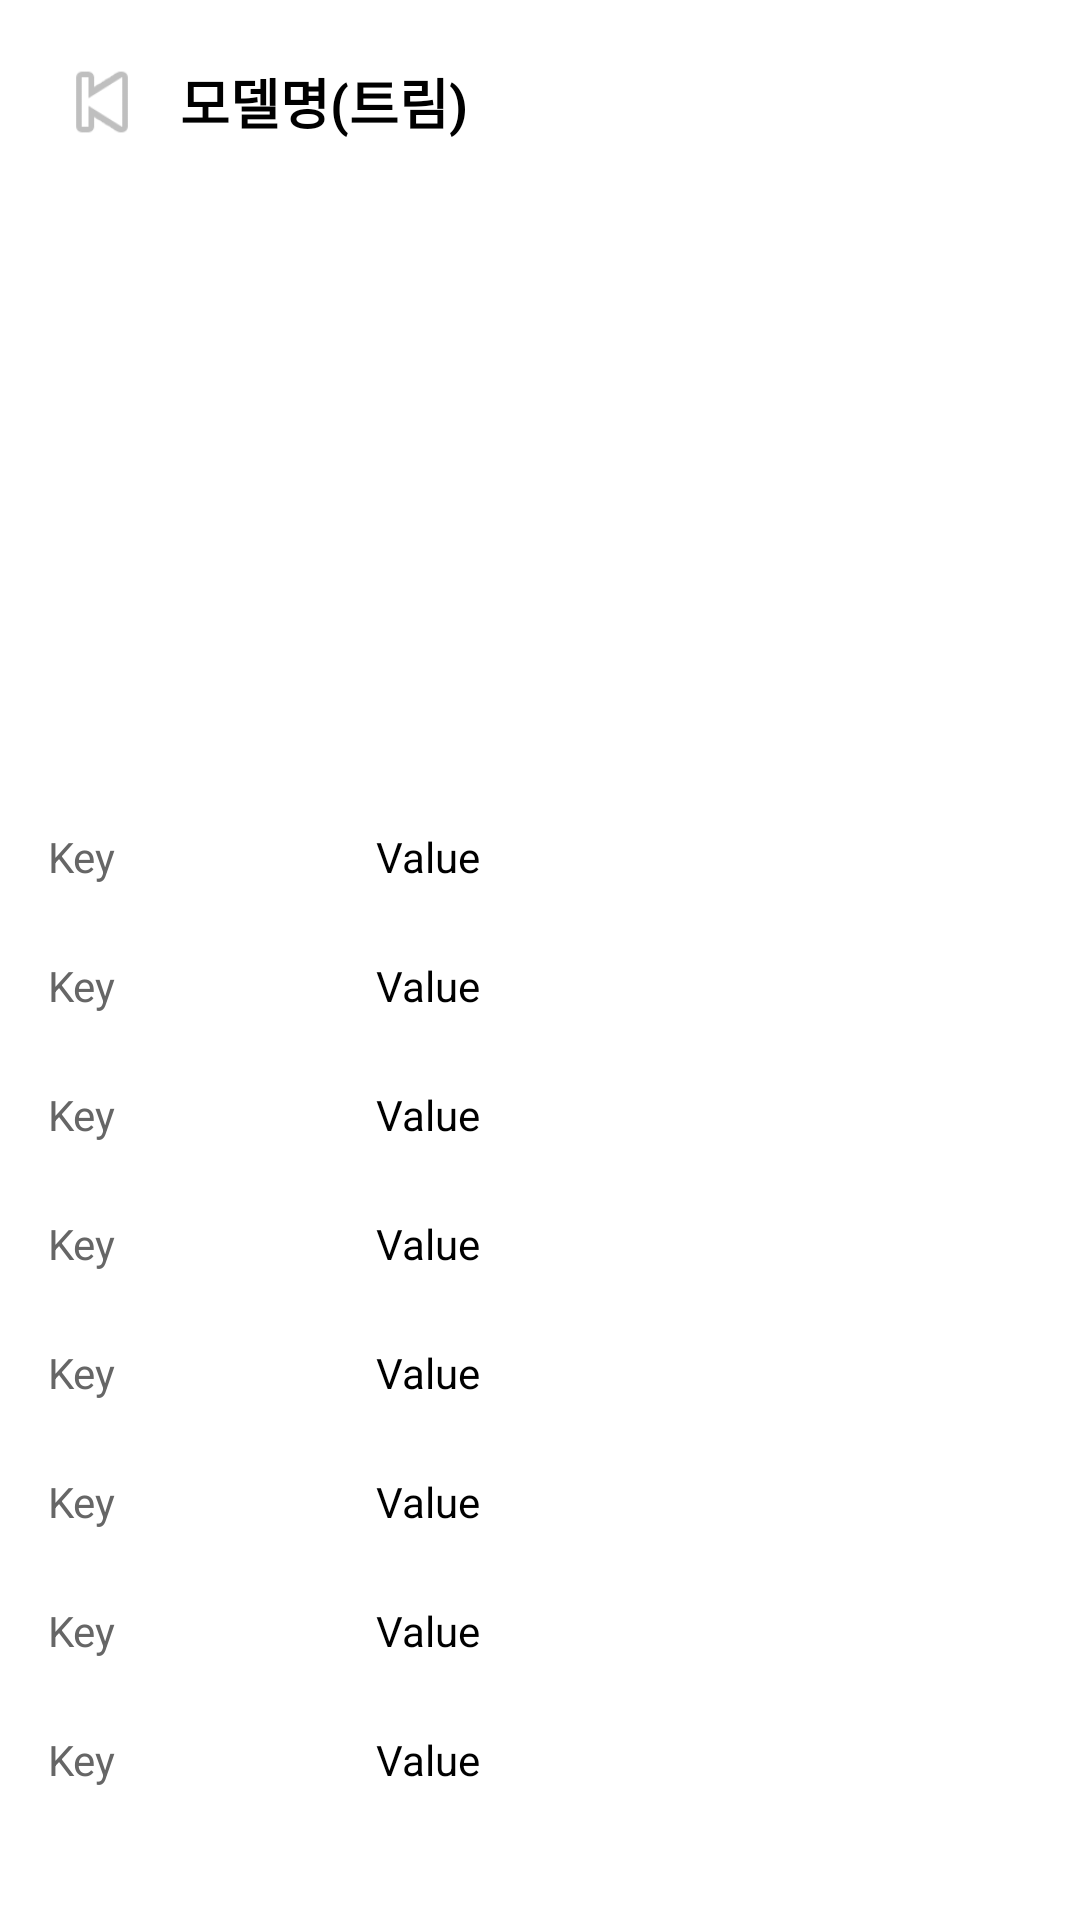

Icons on this 1080*1920 Android screen, each with its box as (x1, y1, x2, y2):
뒤로가기: (76, 71, 128, 133)
